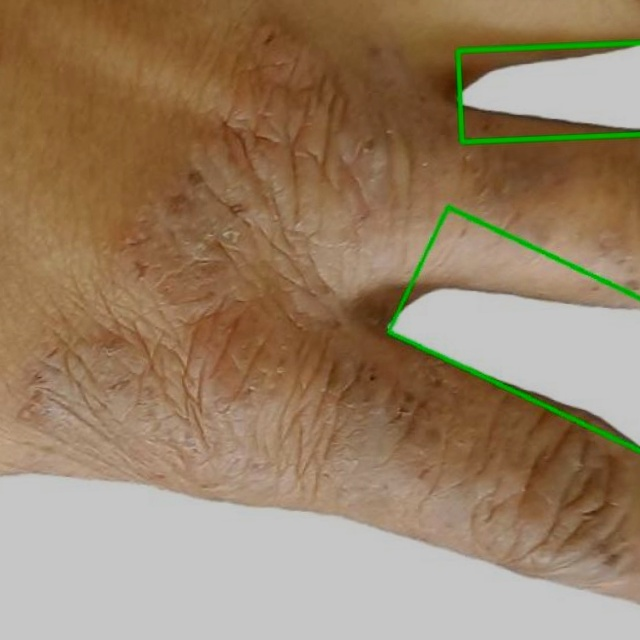Eczema: (375, 205, 639, 486), (458, 43, 639, 142)
